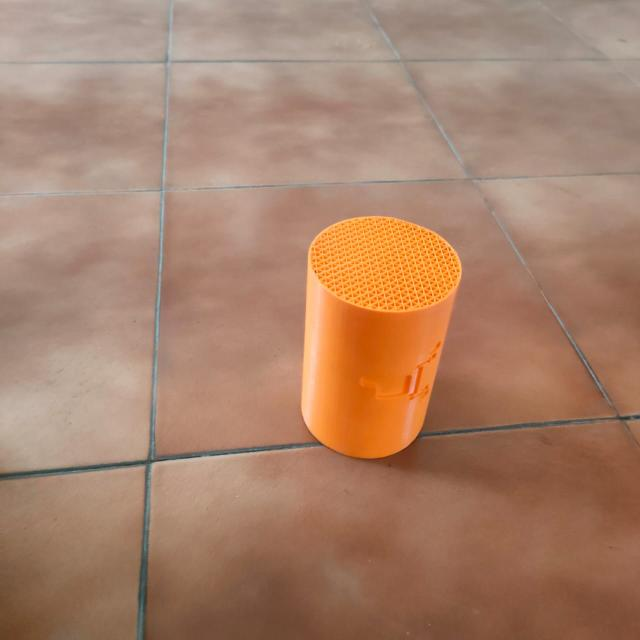Cylinder: (300, 215, 462, 460)
